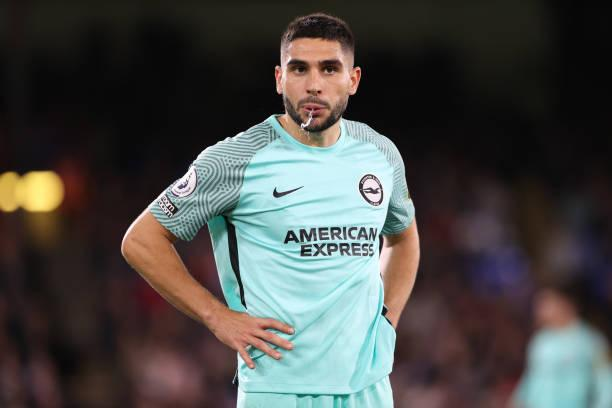Spitting: (266, 13, 367, 142)
